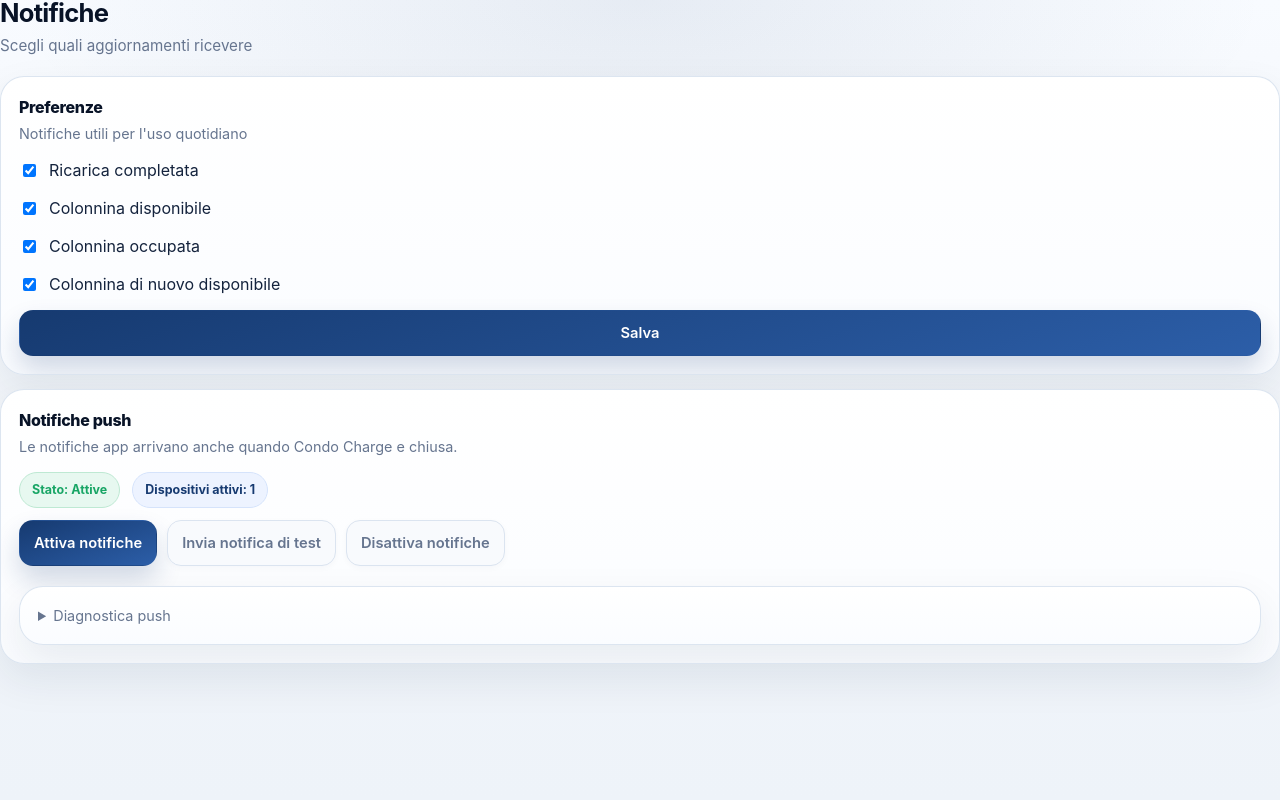
Test: ResidentNotificationsPage › shows no-device feedback when delivered_count is zero
This screenshot has width=1280, height=800.
Click the button "Invia notifica di test" at (252,543), box [167,520,336,566]
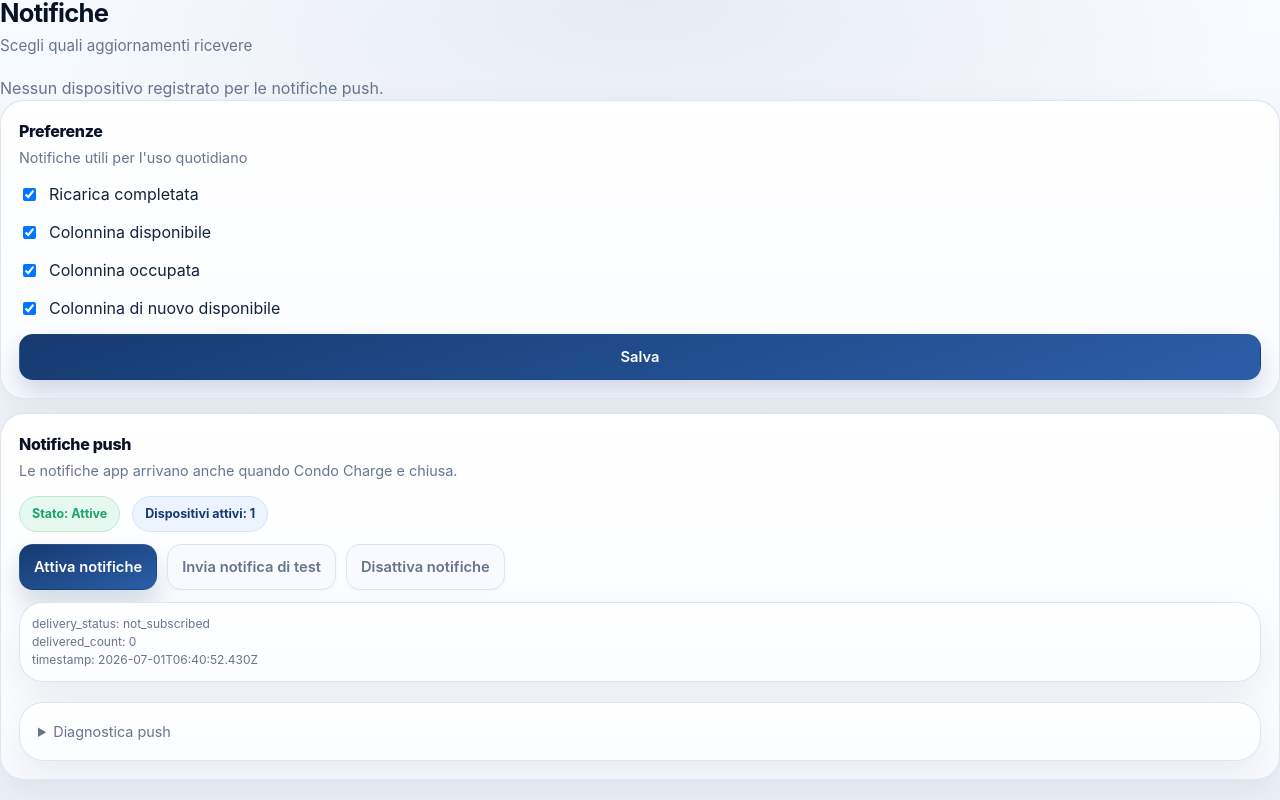
Result: the text "Nessun dispositivo registrato per le notifiche push." is shown at [0,78,384,98]
